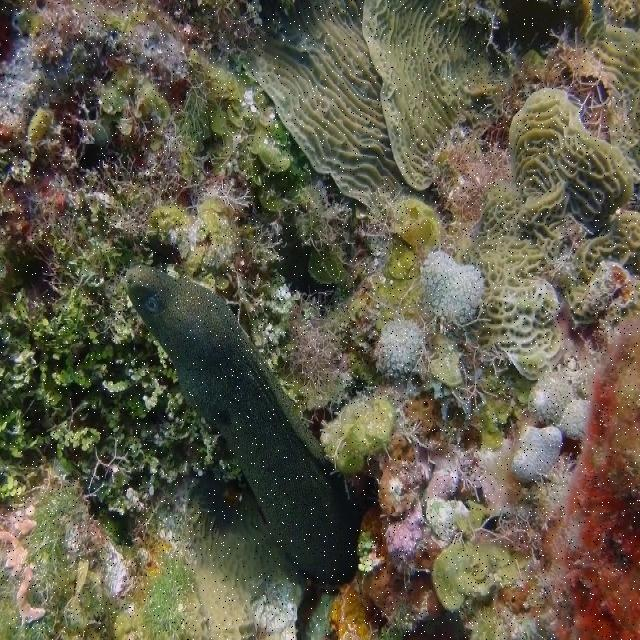aquatic plants: (0, 190, 247, 546)
fish: (122, 266, 371, 583)
reefs: (456, 0, 639, 380), (230, 0, 520, 224), (173, 48, 359, 284), (348, 198, 491, 421), (133, 475, 304, 638), (510, 353, 605, 484), (431, 533, 541, 639)
